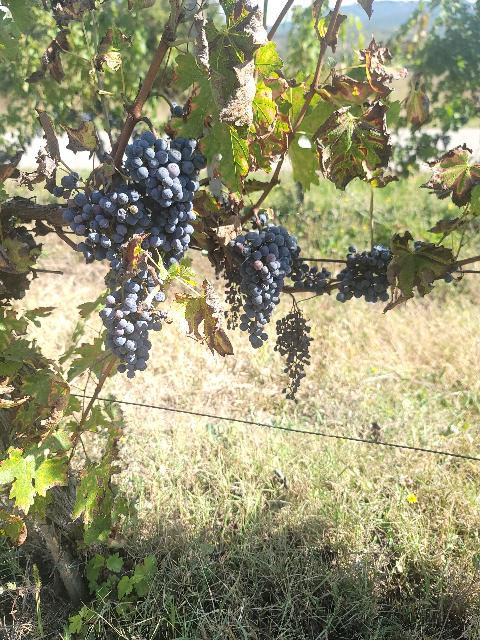grapes: (125, 131, 208, 260), (229, 224, 300, 349), (100, 292, 166, 379), (64, 190, 128, 269), (274, 300, 312, 404), (336, 245, 391, 302), (100, 185, 142, 225)
